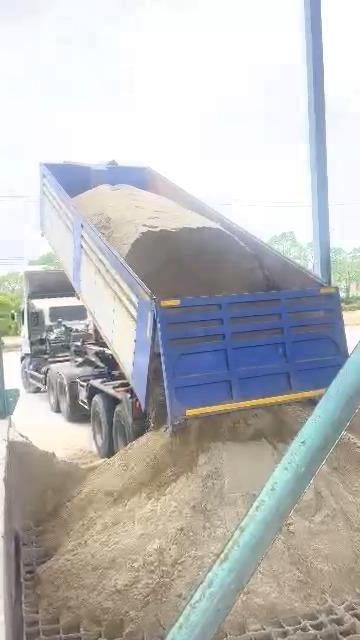sand: (39, 407, 306, 637), (225, 402, 360, 631), (74, 185, 278, 297), (7, 439, 104, 529)
